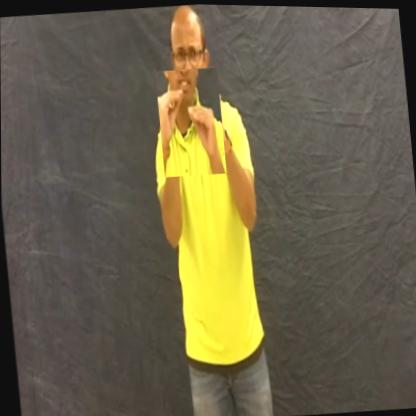Fix: (155, 65, 227, 177)
